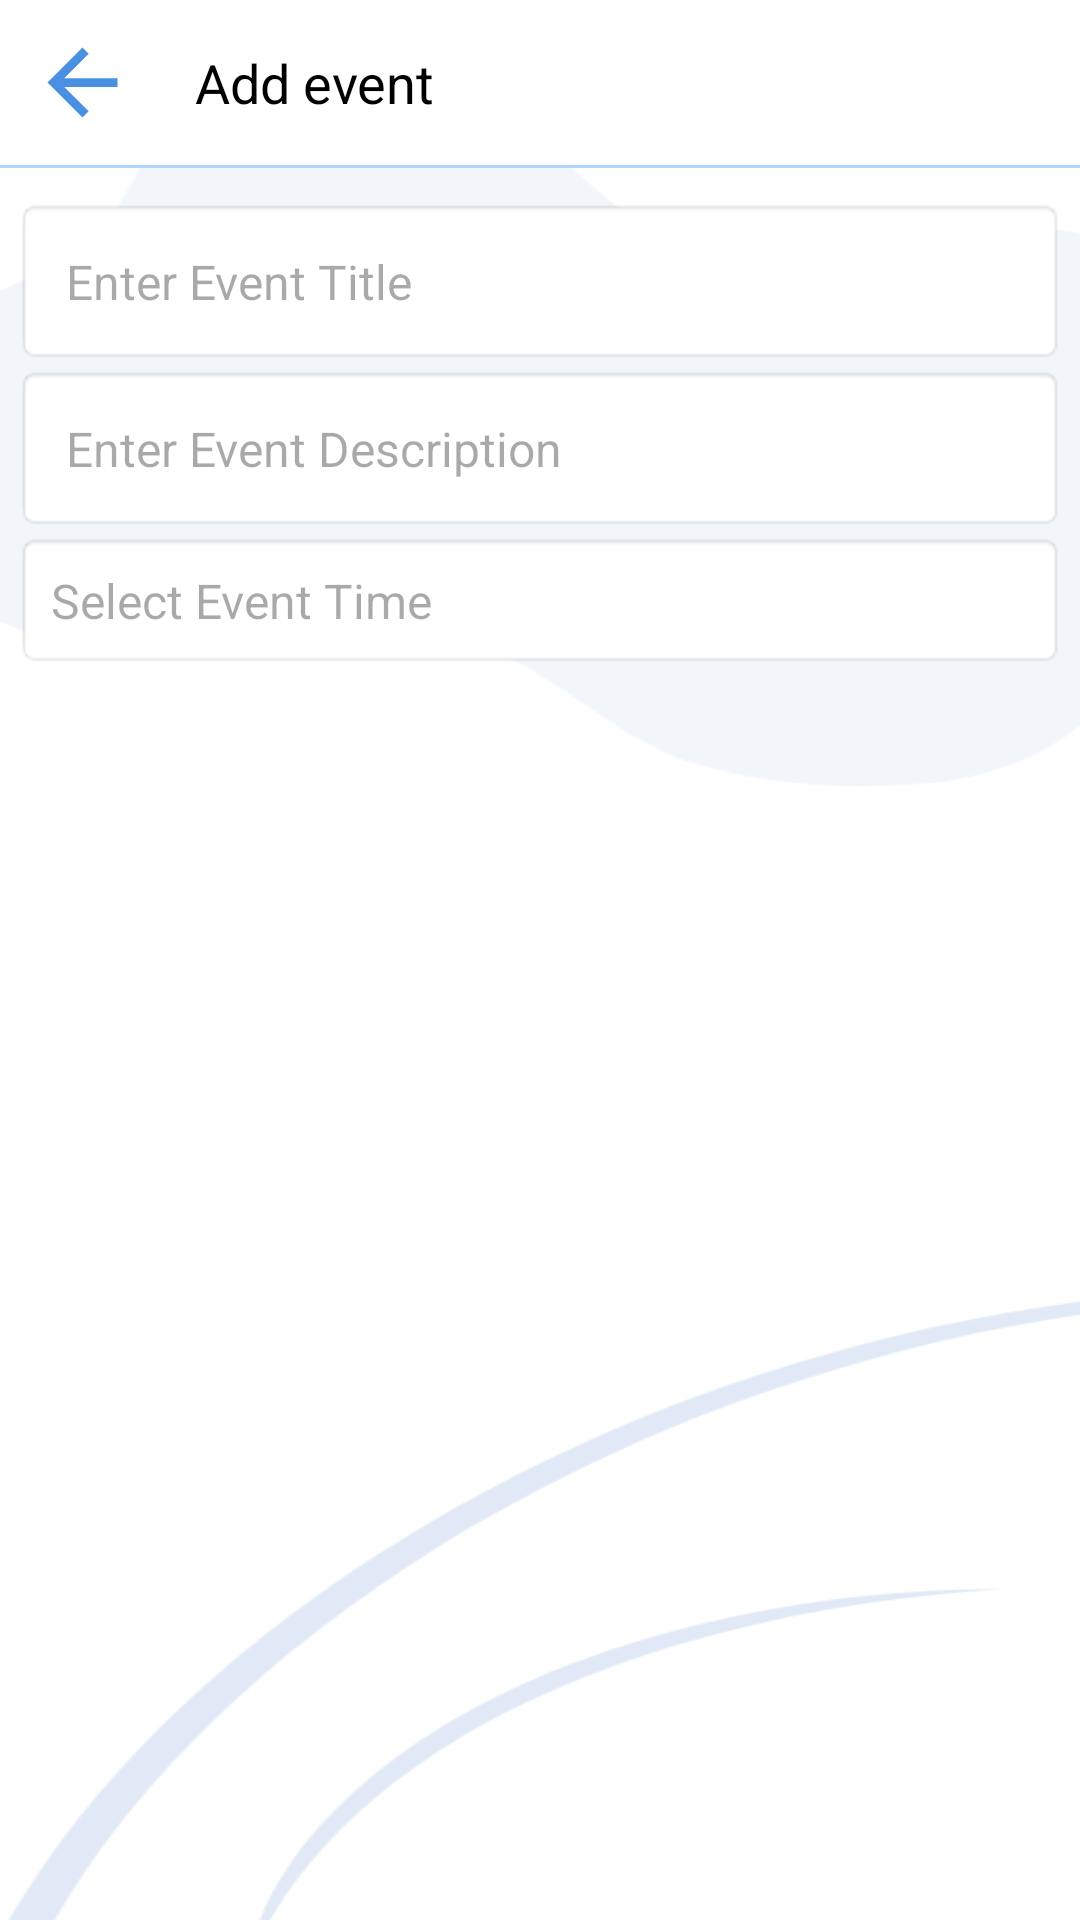

Named icons in this screenshot (1080px×1920px) and their bounding boxes, (x1=x1, y1=y1, x2=x2, y2=y2):
icarrow back: (x1=47, y1=47, x2=118, y2=118)
